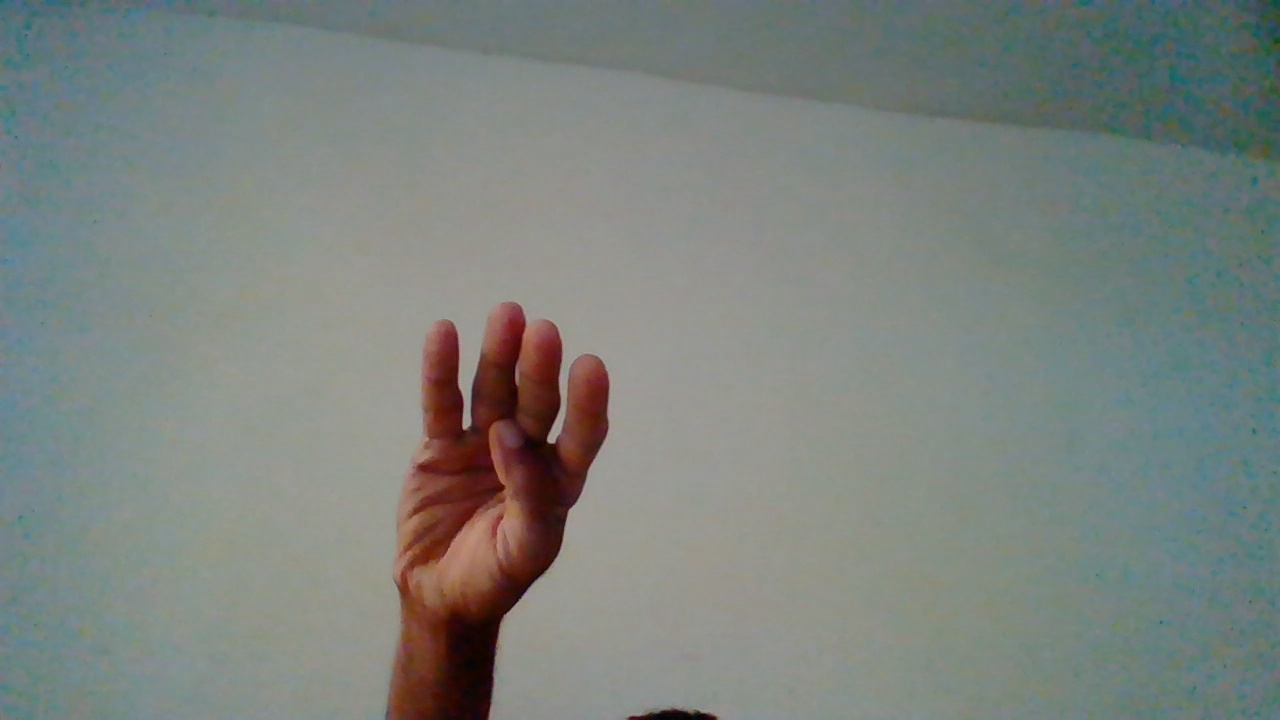me: (392, 297, 612, 705)
